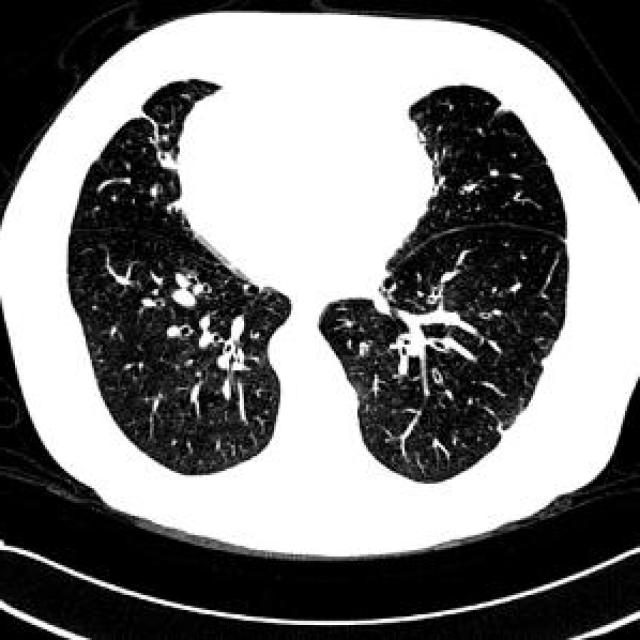Tumor: (543, 357, 549, 366)
